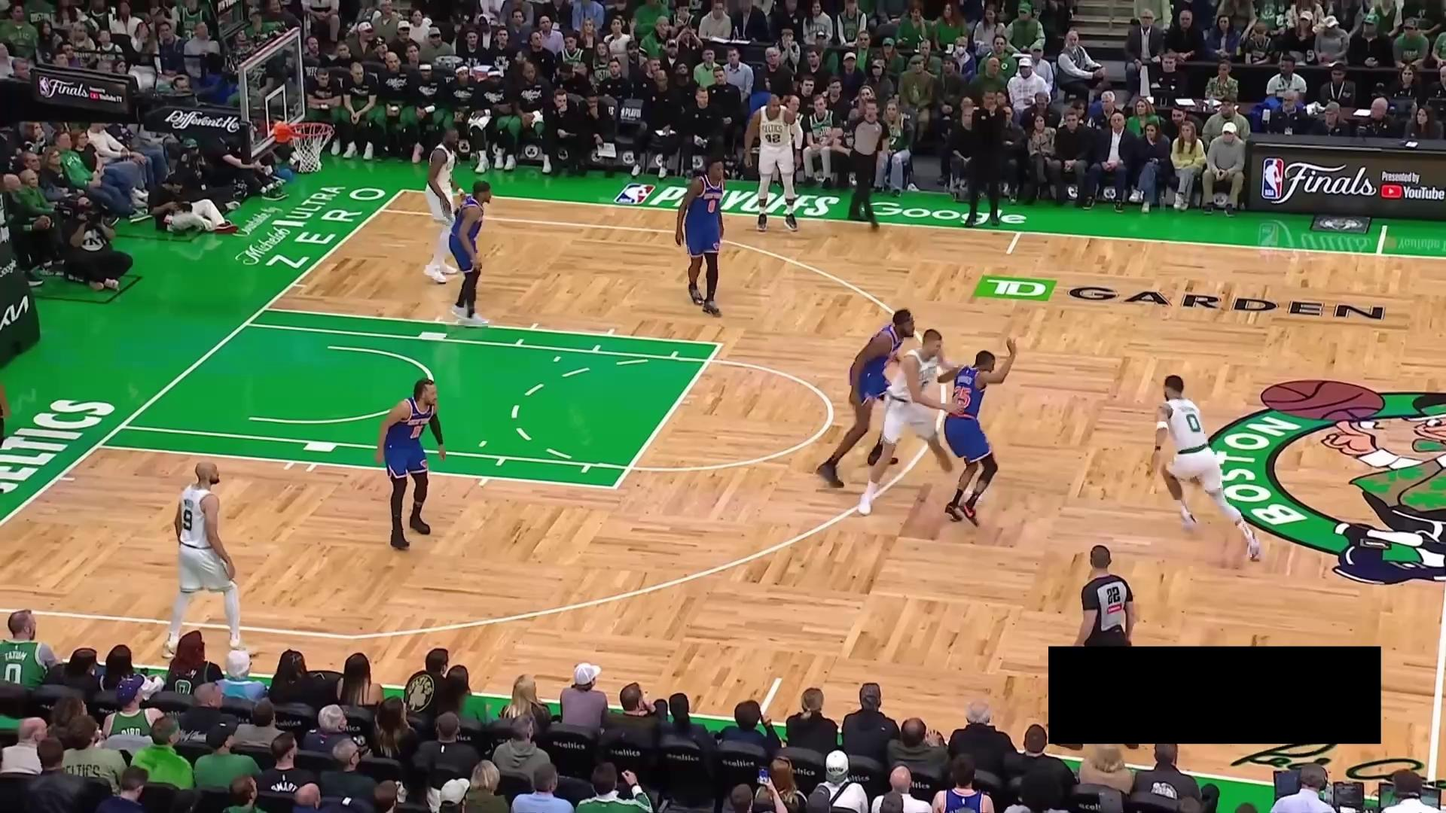number: (950, 385, 973, 408), (181, 506, 194, 535), (1185, 412, 1202, 433), (409, 423, 424, 440), (764, 132, 782, 144), (707, 199, 716, 214)
player: (161, 459, 260, 666), (811, 305, 920, 487), (860, 326, 965, 514), (933, 333, 1024, 529), (373, 377, 446, 550), (671, 154, 733, 319), (742, 90, 809, 237), (418, 118, 470, 287), (442, 177, 497, 333)
player-in-possession: (1148, 370, 1265, 561)
referee: (1061, 537, 1146, 750), (815, 97, 894, 234)
rim: (284, 121, 333, 138)
